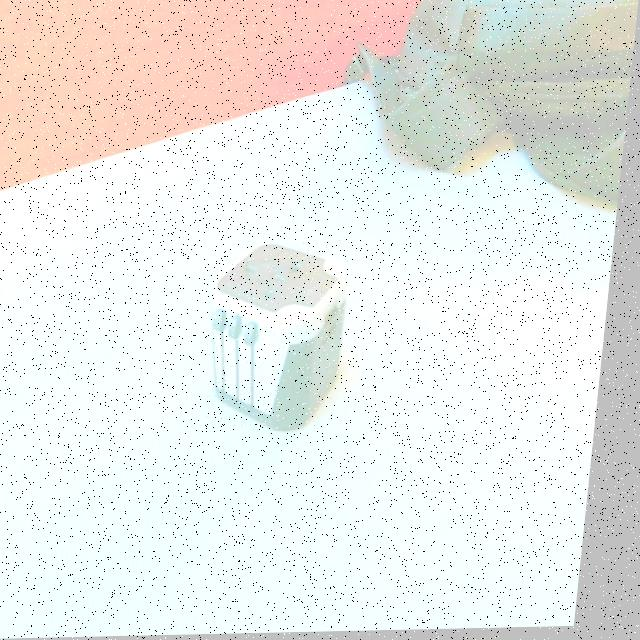adapter: (206, 238, 359, 434)
